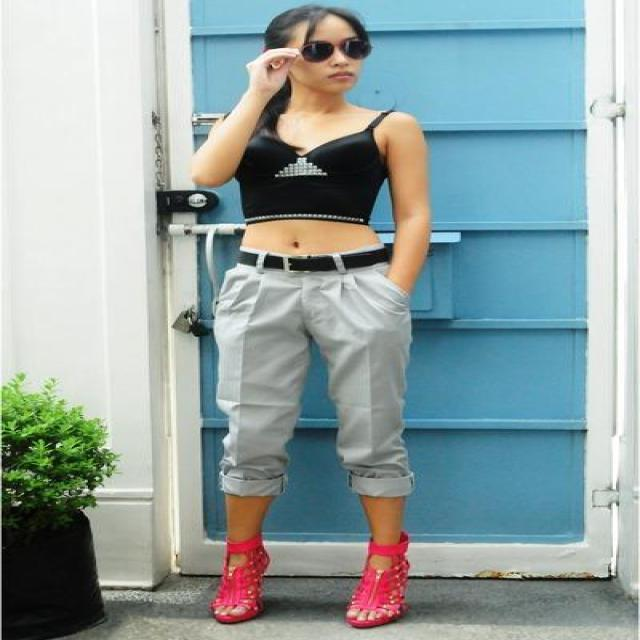pants: (213, 250, 429, 496)
shirt: (211, 115, 394, 224)
shoe: (213, 525, 408, 622)
sunglass: (326, 14, 372, 59)
